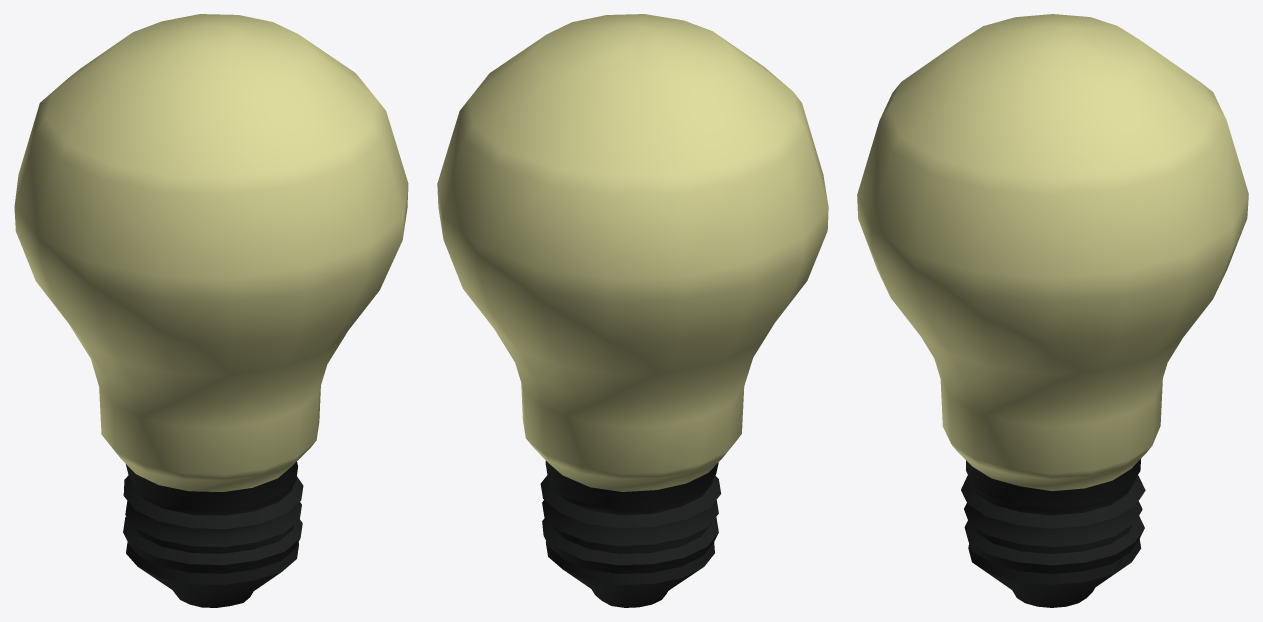
Rendered from lightbulb.obj.
3 renders of one model, left to right at view 1: azimuth 30°, elevation 25°; view 2: azimuth 150°, elevation 25°; view 3: azimuth 270°, elevation 25°, orthographic.
Visible parts, largest first — view 1: Line001_Mesh.001; view 2: Line001_Mesh.001; view 3: Line001_Mesh.001.
Boxes of the visible parts, left/top/right/bottom form: Line001_Mesh.001: left=14, top=14, right=408, bottom=607; Line001_Mesh.001: left=437, top=14, right=828, bottom=607; Line001_Mesh.001: left=857, top=14, right=1248, bottom=607.
Bounding box in the file's own units: 0.2079 × 0.3231 × 0.2061.
